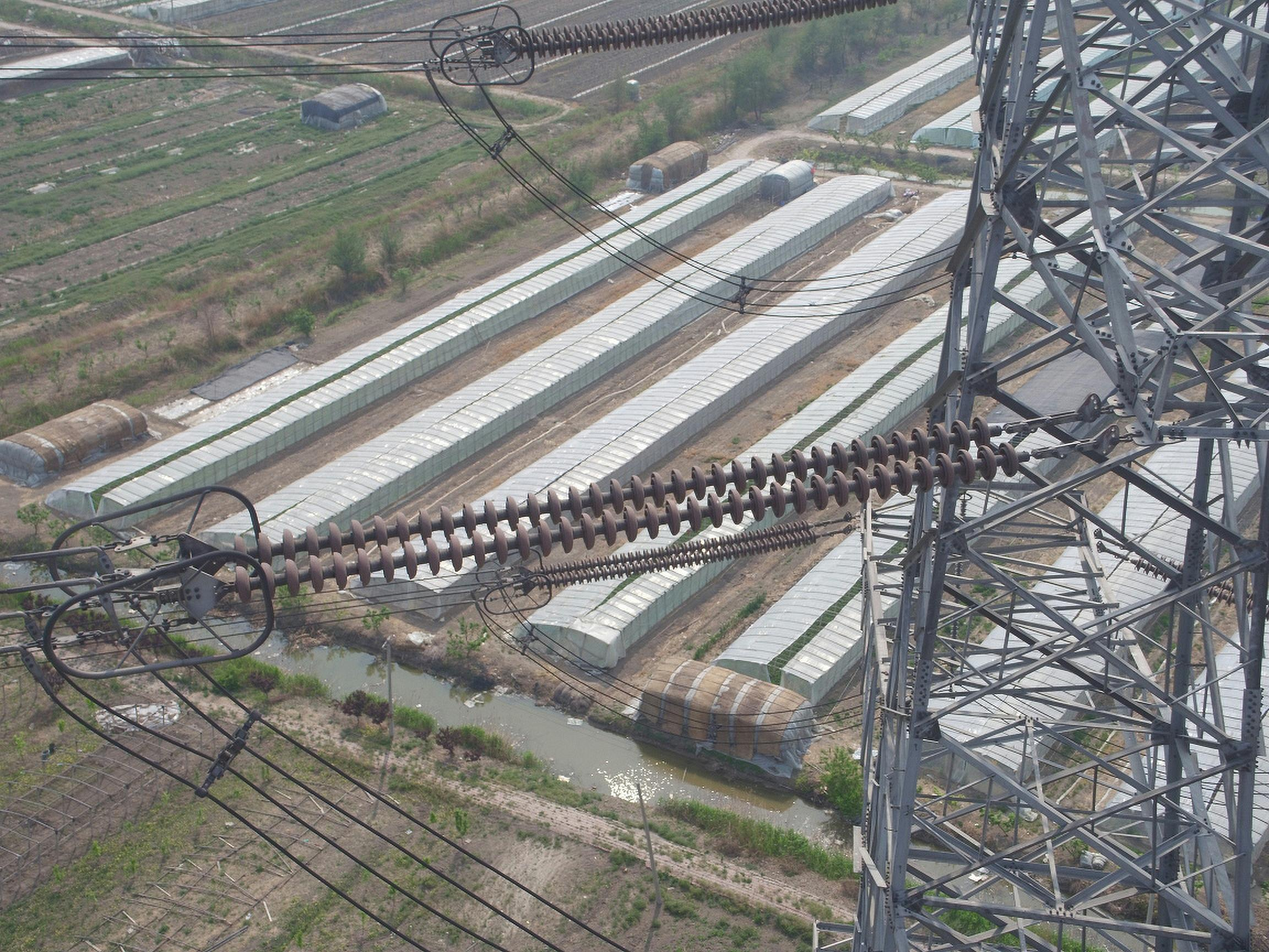insulator: (225, 412, 1025, 608), (506, 1, 902, 64), (532, 517, 818, 592), (1131, 546, 1269, 624)
